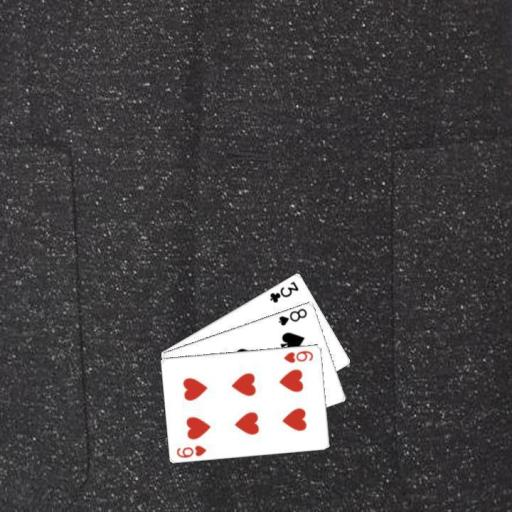card-corner: (267, 278, 300, 304), (275, 305, 309, 327), (281, 347, 315, 364), (174, 442, 208, 459)
